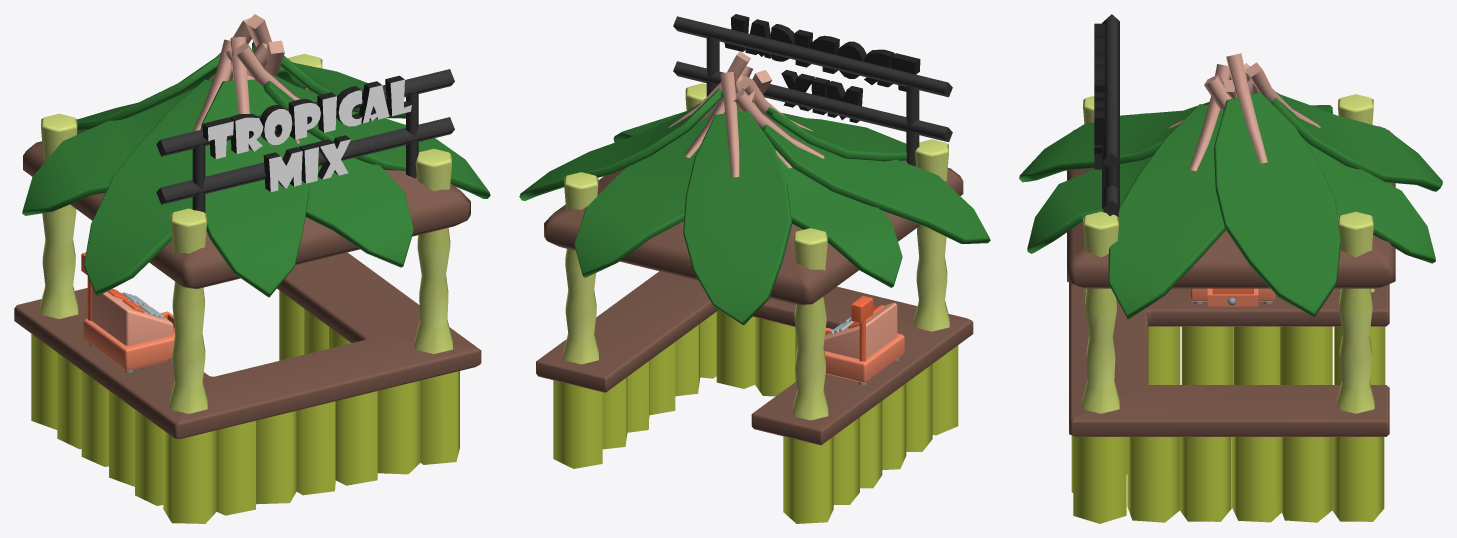
Rendered from stall_004.gltf.
The picture shows the model from 3 angles, left to right: view 1: azimuth 30°, elevation 25°; view 2: azimuth 150°, elevation 25°; view 3: azimuth 270°, elevation 25°; orthographic projection. The views are drawn at different scales.
Parts seen in each view (by area): view 1: stall_004; view 2: stall_004; view 3: stall_004.
Part boxes in pixels (x1,y1,x2,y2): stall_004: (14, 14, 490, 523); stall_004: (519, 14, 990, 523); stall_004: (1019, 14, 1442, 523).
Size of the model in its own units: 4.27 by 4.12 by 3.89.
2 materials, 1 textured.
